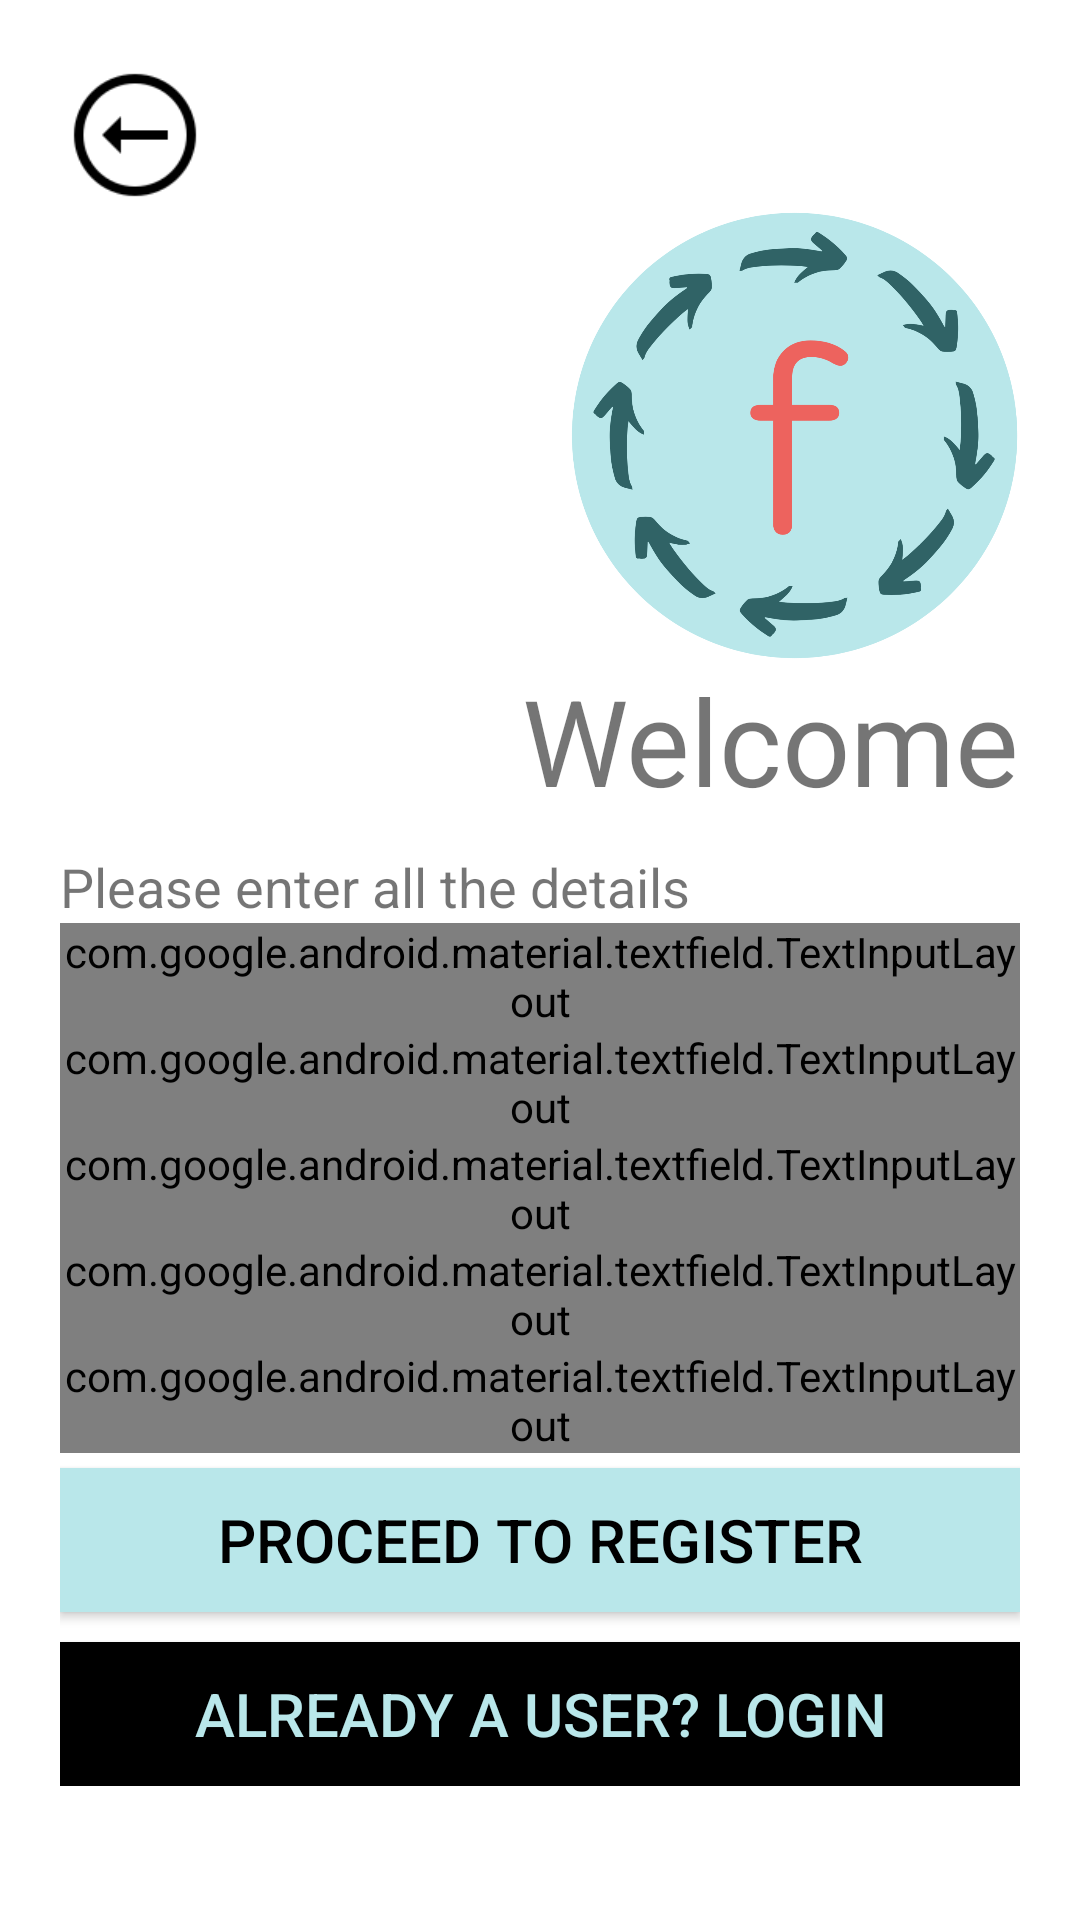

Icon click points for this 1080×1920 phone screenshot, format [x,y]:
iconbacknew: [135,135]
